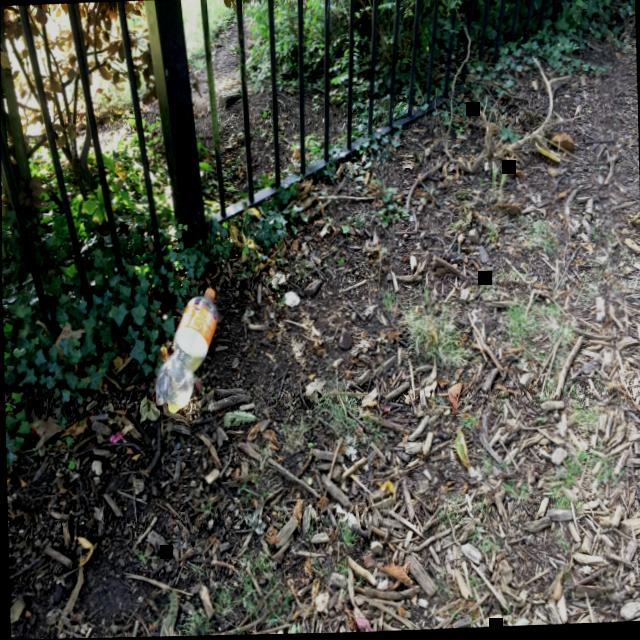Clear plastic bottle: (154, 288, 217, 414)
Other plastic: (109, 432, 126, 442)
Plastic bottle cap: (205, 288, 215, 296)
